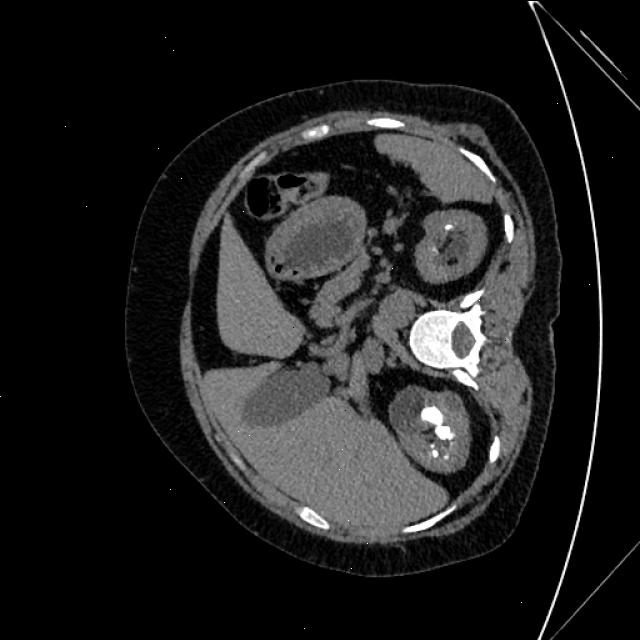kidneystone: (421, 405, 443, 424), (439, 424, 451, 439), (444, 222, 453, 230), (432, 452, 438, 456)
